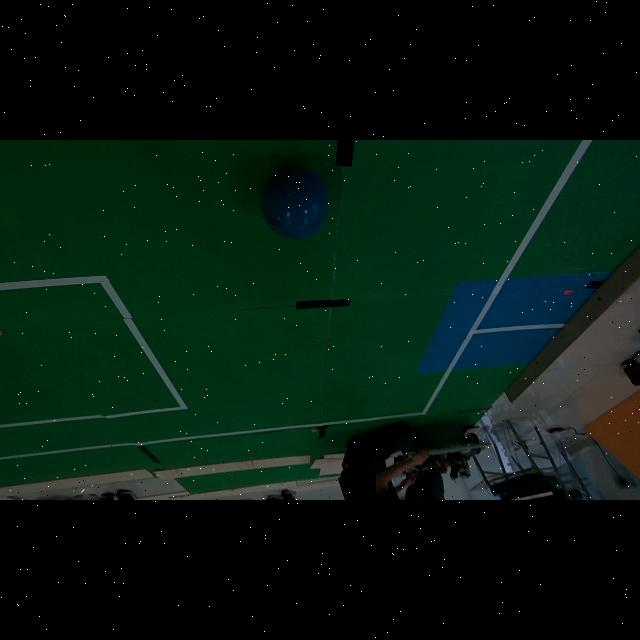B: (260, 166, 329, 239)
